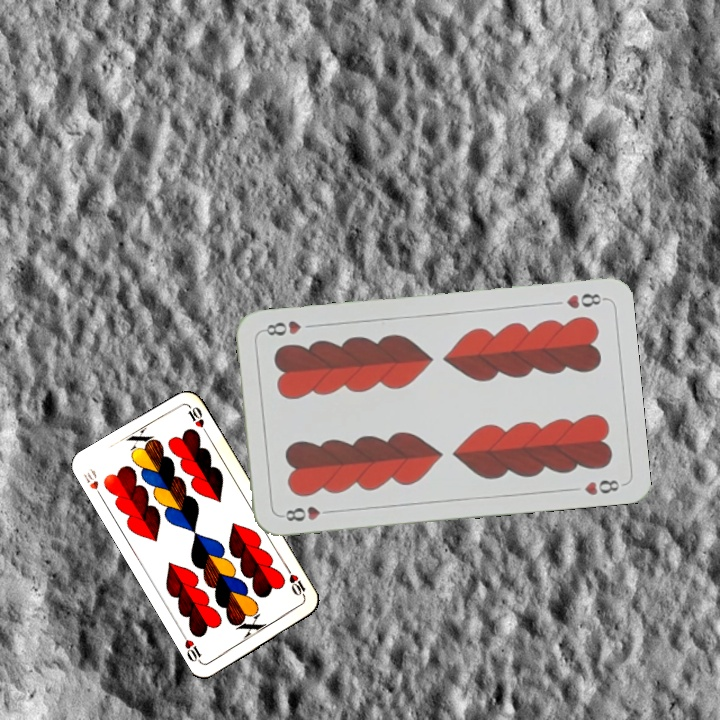H10: (80, 464, 106, 502), (283, 564, 308, 602)
H8: (277, 502, 336, 524), (562, 289, 607, 312)
